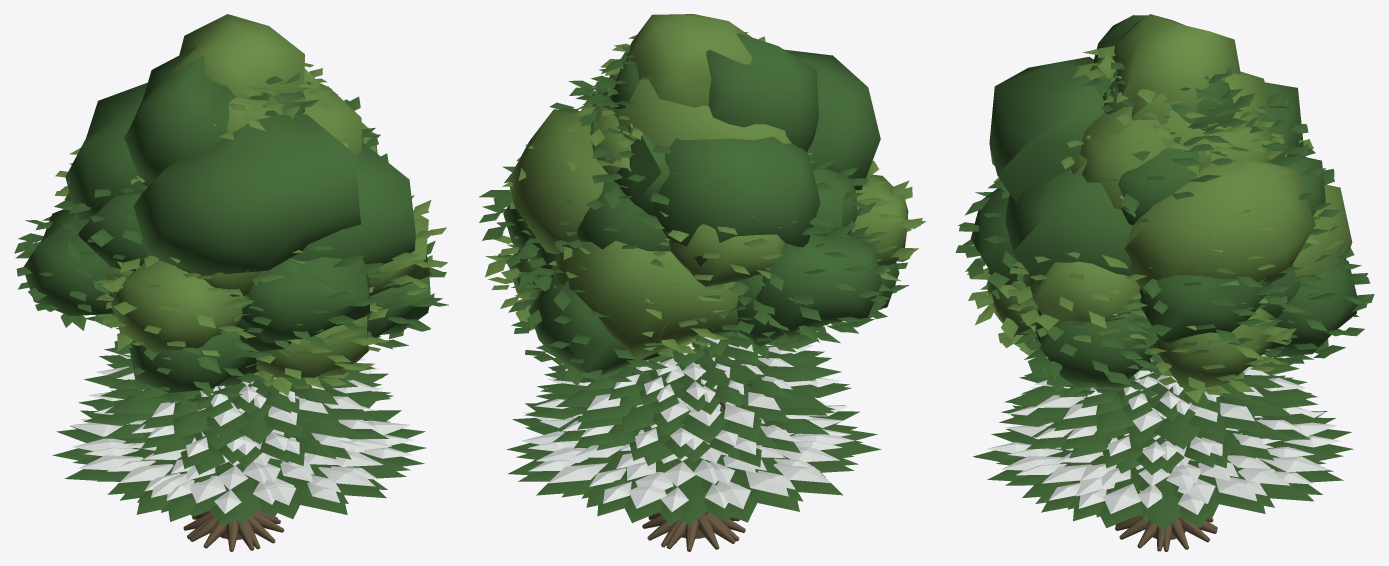
The model's file is frontier-trees.glb.
The picture shows the model from 3 angles, left to right: view 1: azimuth 30°, elevation 25°; view 2: azimuth 150°, elevation 25°; view 3: azimuth 270°, elevation 25°; orthographic projection. The views are drawn at different scales.
Parts seen in each view (by area): view 1: asset__tree__highlands__2__far_leafDark, asset__tree__highlands__2__near_leafDark, asset__tree__highlands__2__near_leaf, asset__tree__highlands__1__far_leaf, asset__tree__highlands__1__far_leafDark, asset__tree__highlands__3__far_leafDark, asset__tree__highlands__3__near_leafDark, asset__tree__highlands__2__near_LeafTips_leafDark, asset__tree__highlands__0__far_leafDark, asset__tree__highlands__2__near_LeafTips_leaf, asset__tree__winter__2__far_leafDark, asset__tree__winter__2__near_leafDark (+21 smaller); view 2: asset__tree__highlands__2__near_leafDark, asset__tree__highlands__0__far_leafDark, asset__tree__highlands__2__far_leaf, asset__tree__highlands__3__far_leaf, asset__tree__highlands__2__near_LeafTips_leafDark, asset__tree__highlands__1__far_leafDark, asset__tree__highlands__2__near_leaf, asset__tree__highlands__1__far_leaf, asset__tree__highlands__2__far_leafDark, asset__tree__winter__2__near_leafDark, asset__tree__highlands__3__near_leafDark, asset__tree__winter__3__near_leafDark (+23 smaller); view 3: asset__tree__highlands__2__far_leaf, asset__tree__highlands__2__near_leafDark, asset__tree__highlands__1__far_leaf, asset__tree__highlands__2__far_leafDark, asset__tree__highlands__3__far_leafDark, asset__tree__highlands__3__near_leafDark, asset__tree__highlands__2__near_LeafTips_leafDark, asset__tree__highlands__2__near_leaf, asset__tree__highlands__3__near_LeafTips_leafDark, asset__tree__highlands__3__near_leaf, asset__tree__highlands__3__near_LeafTips_leaf, asset__tree__winter__2__far_leafDark (+25 smaller).
Boxes of the visible parts, x1,y1,x2,y2 form: asset__tree__highlands__2__far_leafDark: [133, 113, 361, 275]; asset__tree__highlands__2__near_leafDark: [23, 193, 369, 342]; asset__tree__highlands__2__near_leaf: [64, 142, 430, 352]; asset__tree__highlands__1__far_leaf: [172, 14, 363, 154]; asset__tree__highlands__1__far_leafDark: [125, 47, 271, 182]; asset__tree__highlands__3__far_leafDark: [290, 143, 415, 265]; asset__tree__highlands__3__near_leafDark: [129, 275, 430, 392]; asset__tree__highlands__2__near_LeafTips_leafDark: [14, 83, 388, 356]; asset__tree__highlands__0__far_leafDark: [65, 82, 147, 219]; asset__tree__highlands__2__near_LeafTips_leaf: [54, 128, 448, 359]; asset__tree__winter__2__far_leafDark: [56, 388, 425, 522]; asset__tree__winter__2__near_leafDark: [93, 366, 410, 526]; asset__tree__highlands__2__near_leafDark: [503, 77, 881, 337]; asset__tree__highlands__0__far_leafDark: [653, 136, 820, 266]; asset__tree__highlands__2__far_leaf: [508, 74, 809, 253]; asset__tree__highlands__3__far_leaf: [552, 241, 738, 359]; asset__tree__highlands__2__near_LeafTips_leafDark: [479, 69, 891, 343]; asset__tree__highlands__1__far_leafDark: [706, 33, 818, 151]; asset__tree__highlands__2__near_leaf: [590, 106, 908, 286]; asset__tree__highlands__1__far_leaf: [609, 14, 752, 107]; asset__tree__highlands__2__far_leafDark: [784, 49, 880, 190]; asset__tree__winter__2__near_leafDark: [537, 342, 859, 525]; asset__tree__highlands__3__near_leafDark: [528, 262, 899, 379]; asset__tree__winter__3__near_leafDark: [512, 337, 862, 521]; asset__tree__highlands__2__far_leaf: [1108, 71, 1315, 293]; asset__tree__highlands__2__near_leafDark: [970, 105, 1325, 343]; asset__tree__highlands__1__far_leaf: [1080, 14, 1240, 209]; asset__tree__highlands__2__far_leafDark: [989, 56, 1104, 202]; asset__tree__highlands__3__far_leafDark: [1005, 169, 1132, 285]; asset__tree__highlands__3__near_leafDark: [1035, 256, 1357, 387]; asset__tree__highlands__2__near_LeafTips_leafDark: [955, 93, 1342, 354]; asset__tree__highlands__2__near_leaf: [1023, 126, 1273, 326]; asset__tree__highlands__3__near_LeafTips_leafDark: [1014, 243, 1374, 394]; asset__tree__highlands__3__near_leaf: [987, 269, 1275, 391]; asset__tree__highlands__3__near_LeafTips_leaf: [967, 216, 1343, 403]; asset__tree__winter__2__far_leafDark: [987, 361, 1343, 527].
Bounding box in the file's own units: 6.34 × 7.99 × 5.94.
